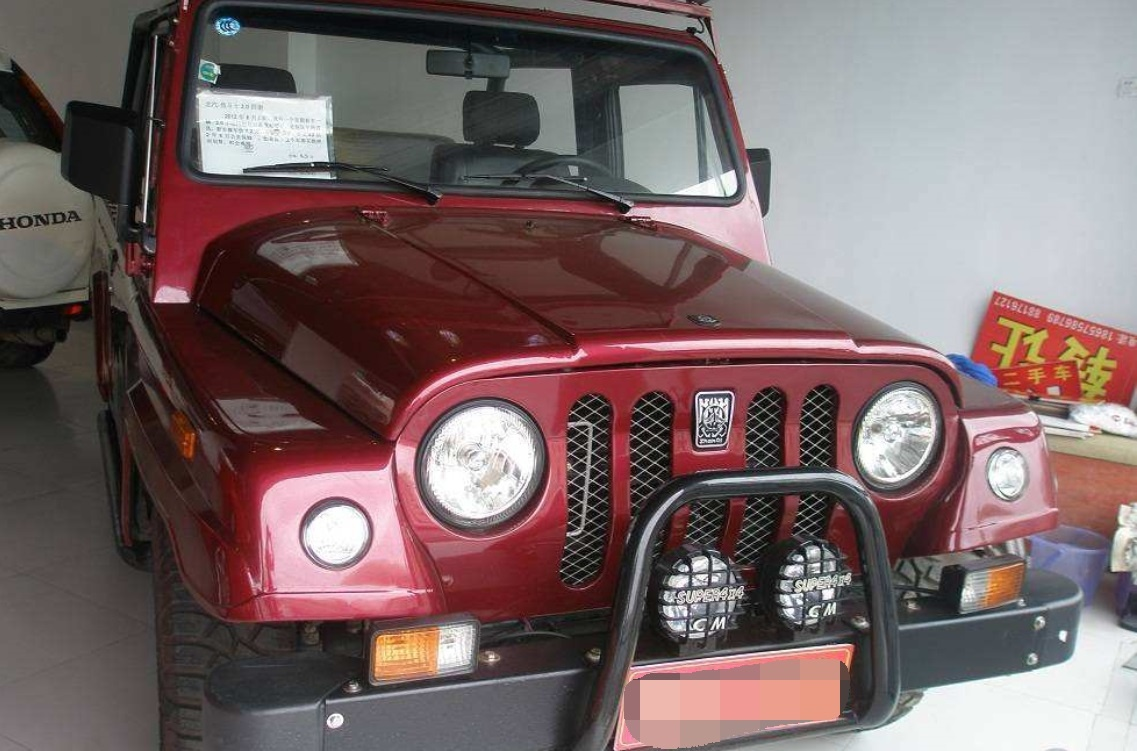jeep: (77, 3, 1062, 749)
